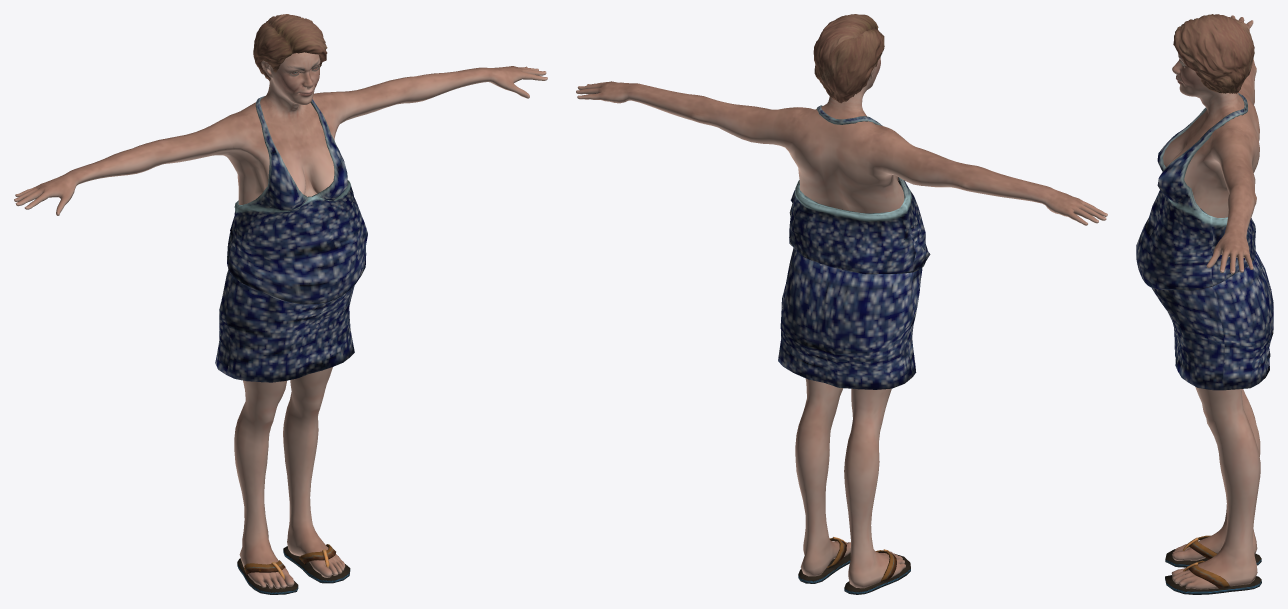
The model's file is female3c2.obj.
3 views of the same model, side by side, from view 1: azimuth 30°, elevation 25°; view 2: azimuth 150°, elevation 25°; view 3: azimuth 270°, elevation 25° (orthographic).
Parts seen in each view (by area): view 1: Body, Tops, Bottoms, Hair, Shoes; view 2: Body, Bottoms, Tops, Hair, Shoes; view 3: Body, Bottoms, Tops, Hair, Shoes.
Part boxes in pixels (x1,y1,x2,y2): Body: (14, 52, 547, 588); Tops: (227, 96, 367, 305); Bottoms: (215, 270, 354, 382); Hair: (253, 14, 327, 81); Shoes: (237, 544, 350, 594); Body: (576, 57, 1107, 588); Bottoms: (778, 248, 922, 389); Tops: (789, 105, 930, 274); Hair: (813, 14, 884, 103); Shoes: (798, 537, 910, 594); Body: (1163, 15, 1260, 589); Bottoms: (1152, 251, 1273, 390); Tops: (1136, 93, 1255, 290); Hair: (1173, 14, 1254, 93); Shoes: (1165, 535, 1261, 594).
Bounding box in the file's own units: 1.79 × 1.79 × 0.4015.
1 material, 1 textured.
